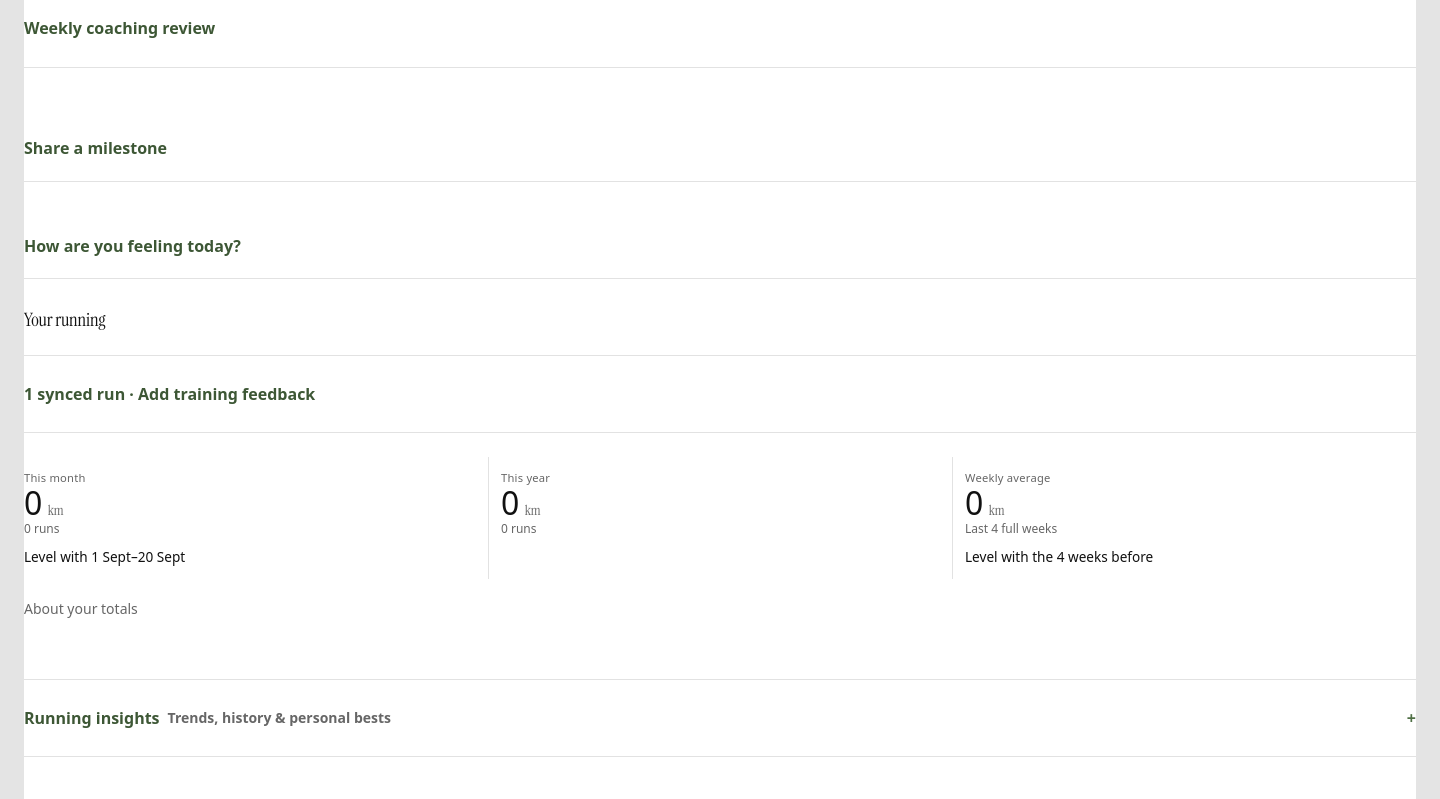
Test: acknowledges an unplanned Strava run and opens confirmation on its actual date
(page scrolled)
Click the heading "1 synced run · Add training feedback": (170, 394) 24,383 -> 315,405
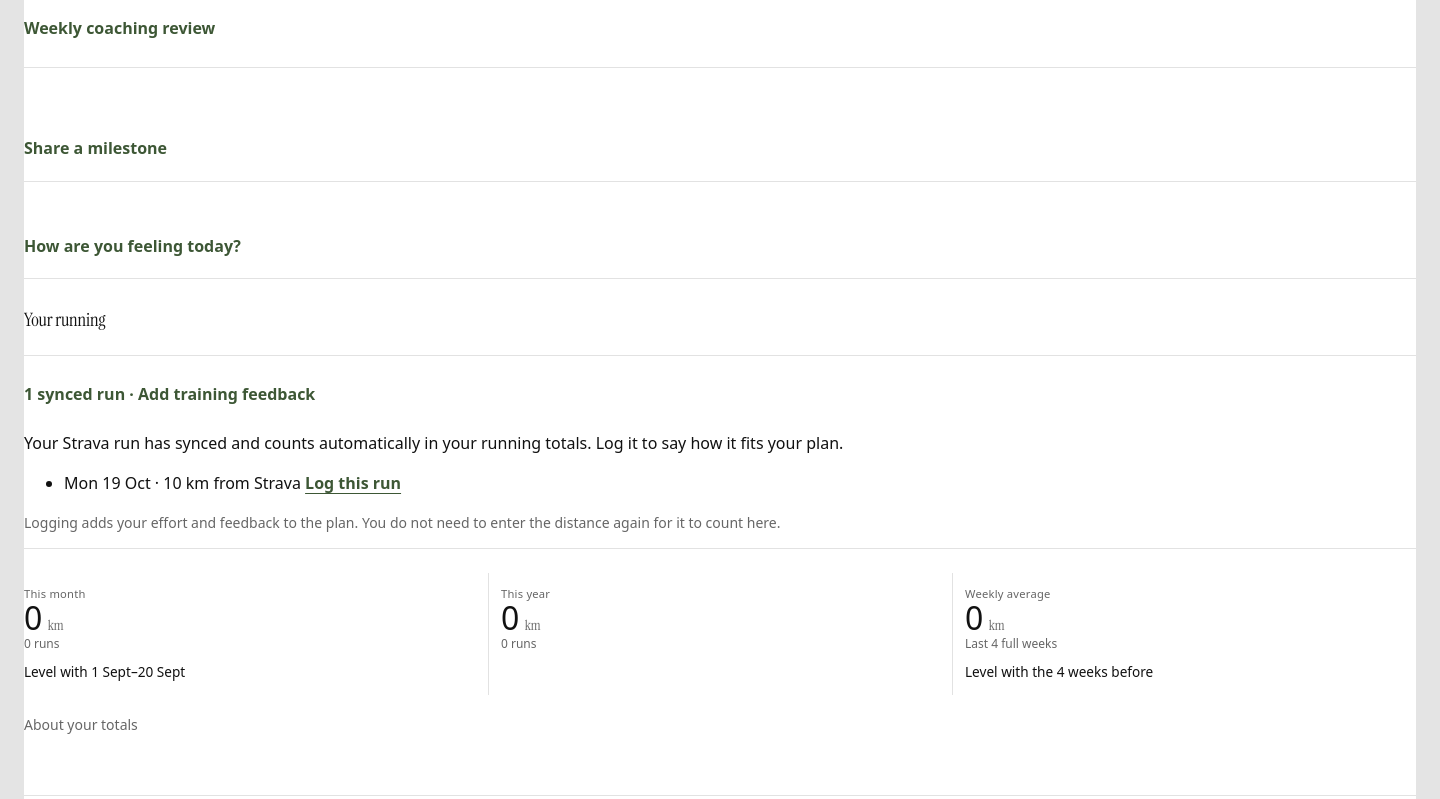
Result: the text "Your Strava run has synced" is shown at 24,432 -> 843,454
Click the button "Log this run": (353, 484) 305,472 -> 401,496
(page scrolled)
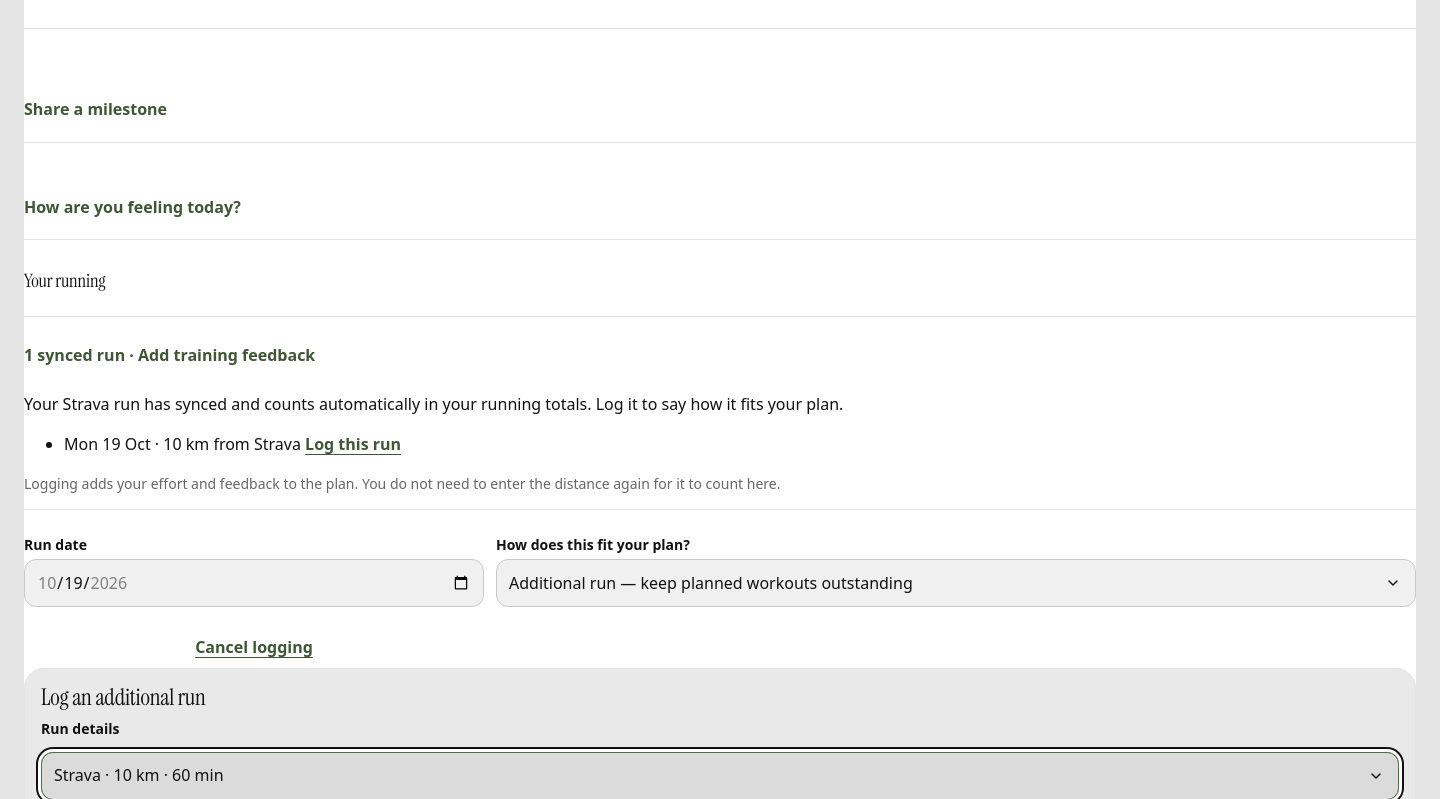
Result: the date field labelled "Run date" holds "2026-10-19" at 24,559 -> 484,607
Result: the dropdown labelled "How does this fit your plan?" shows "Additional run — keep planned workouts outstanding" at 496,559 -> 1416,607
Result: the dropdown labelled "Run details" shows "Strava · 10 km · 60 min" at 41,752 -> 1399,798
